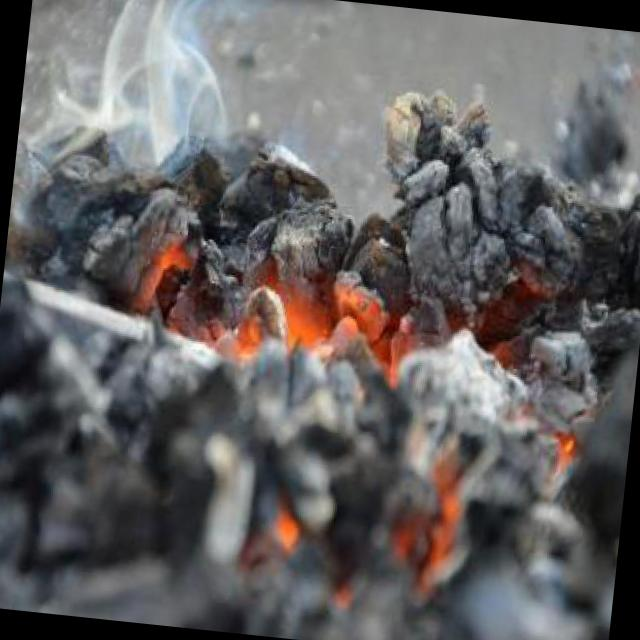smoke: (11, 0, 254, 218)
